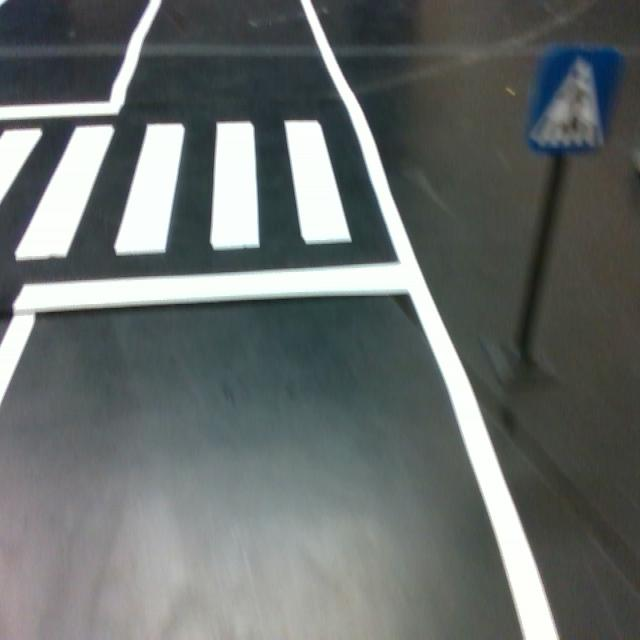crosswalk-sign: (524, 48, 620, 154)
